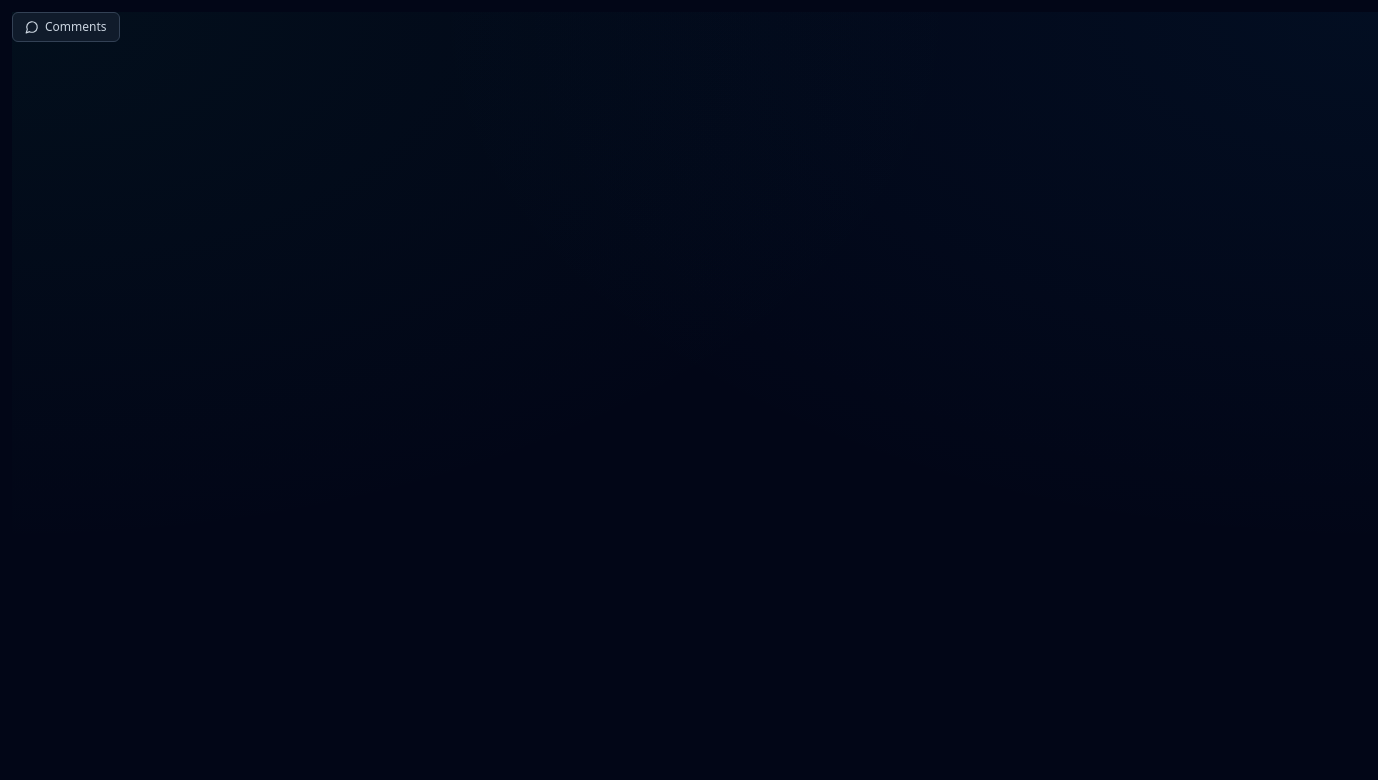
Test case: CommentThread — opened state › closes panel when close button clicked
Click the button titled "Open comments" at x=66, y=27, box 12,12 -> 120,42
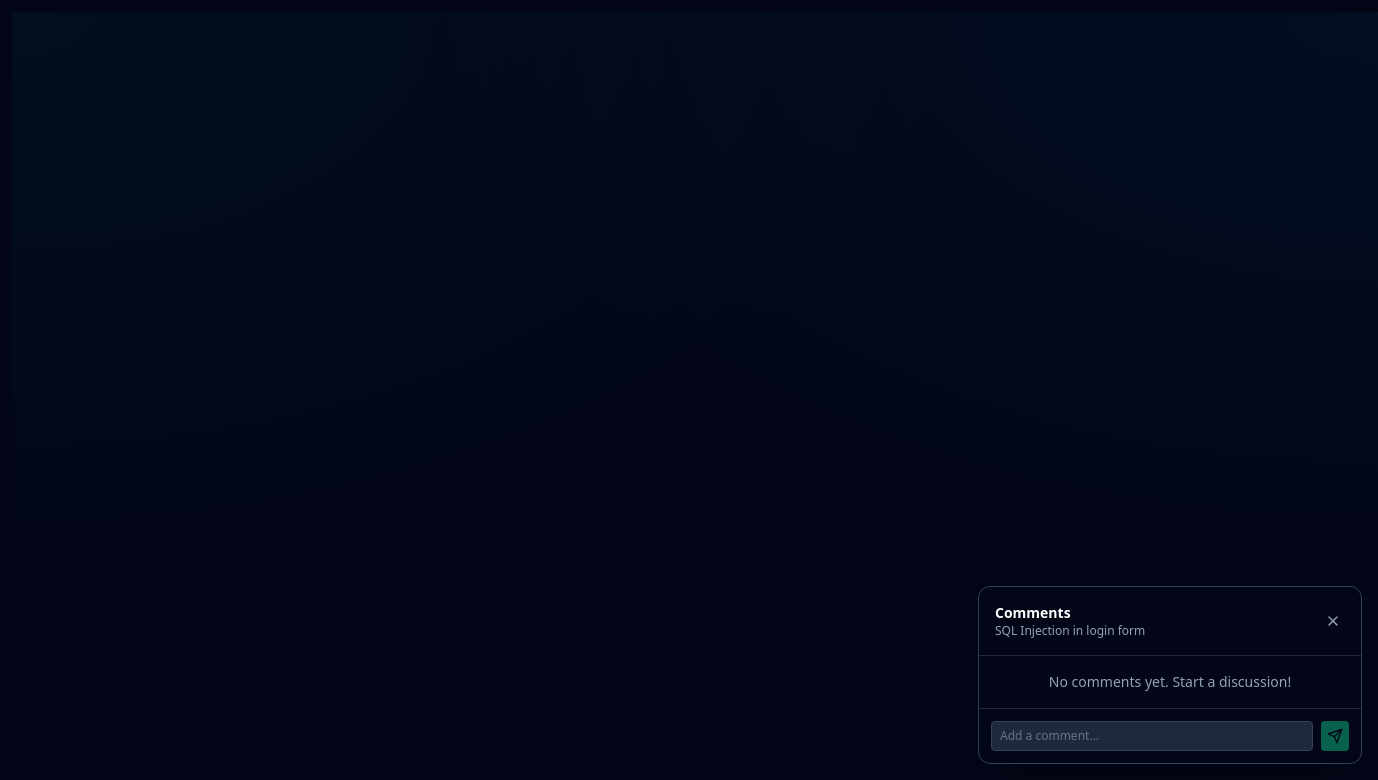
Check: the button titled "Close comments" is shown
Click the button titled "Close comments" at x=1333, y=621, box 1321,609 -> 1345,633
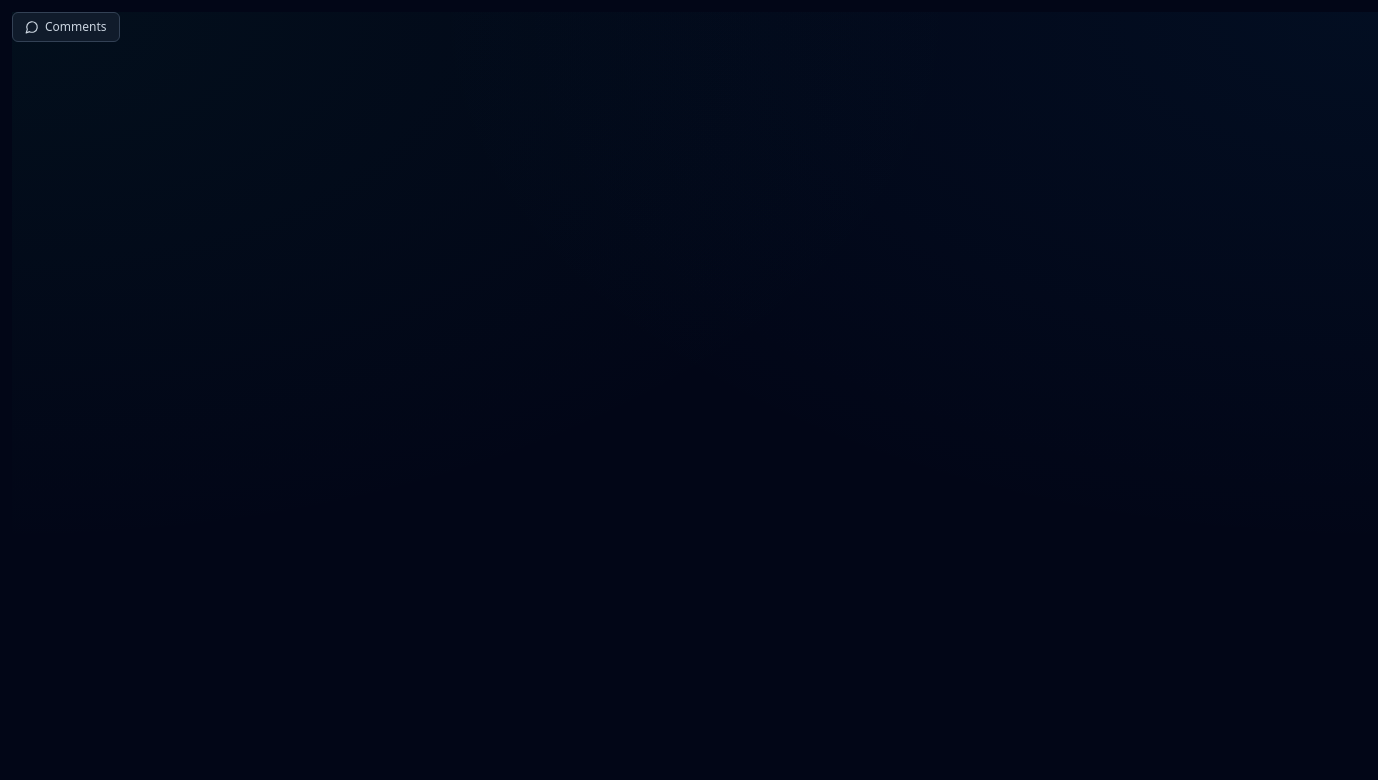
Check: the text "No comments yet" is gone
